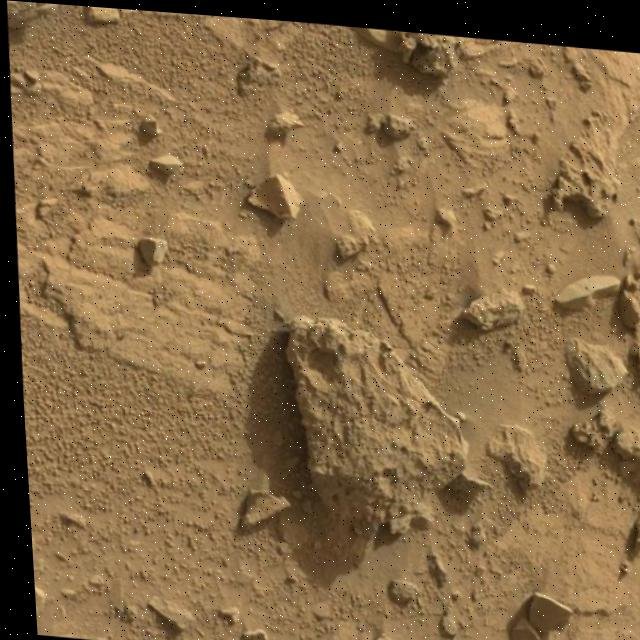mars-rocks: (281, 311, 460, 518), (562, 329, 622, 384), (243, 169, 300, 214), (458, 281, 519, 323)
